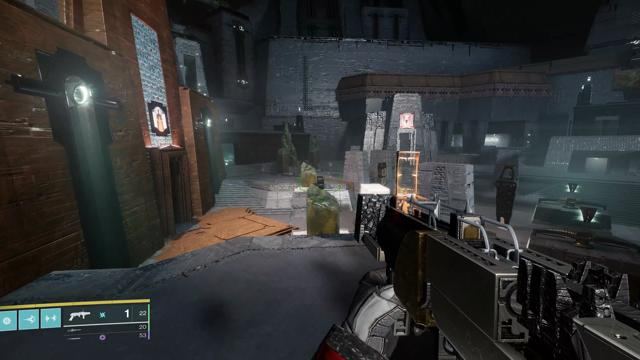give: (402, 115, 412, 126)
worship: (153, 106, 167, 132)
